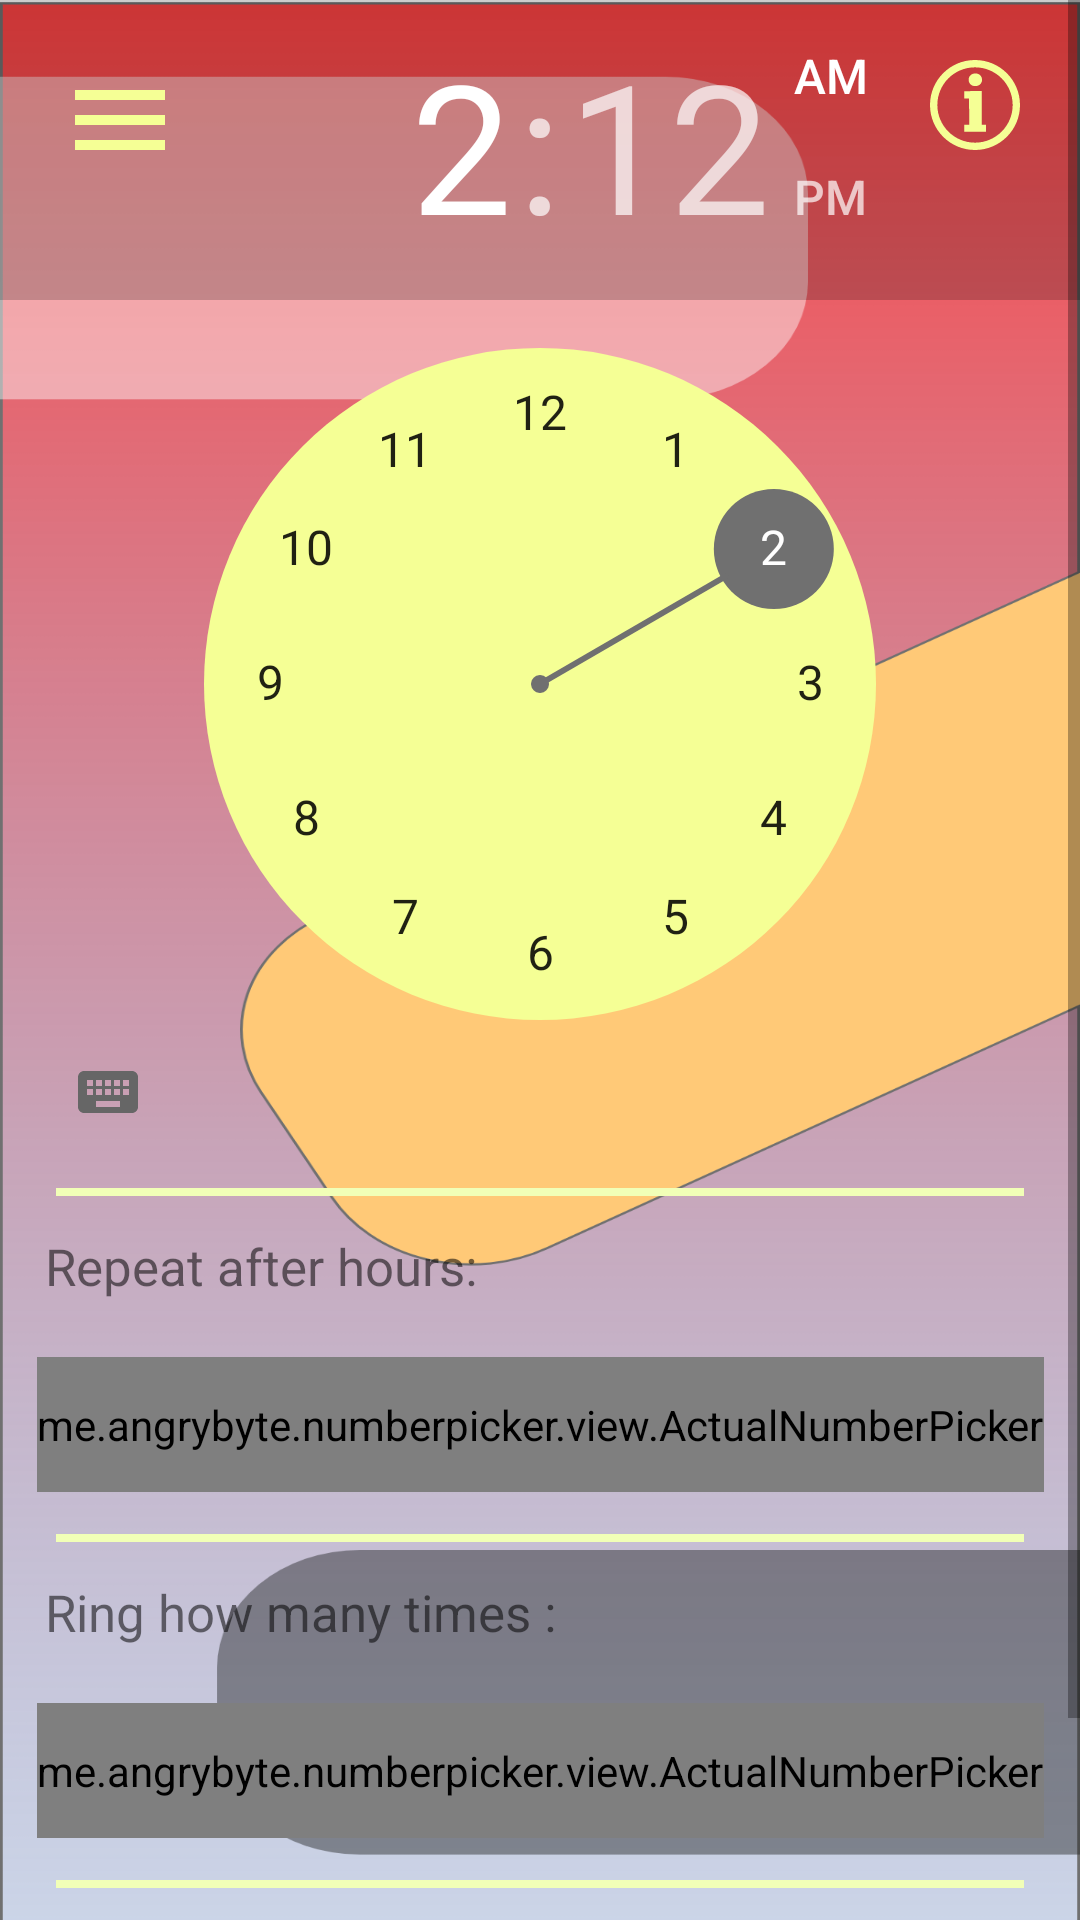

Where to tap for icons on this 1080×1920 app screen, as point (x, y):
Button to show info dialog: point (975, 105)
Button to show previous Alarms: point (120, 120)
